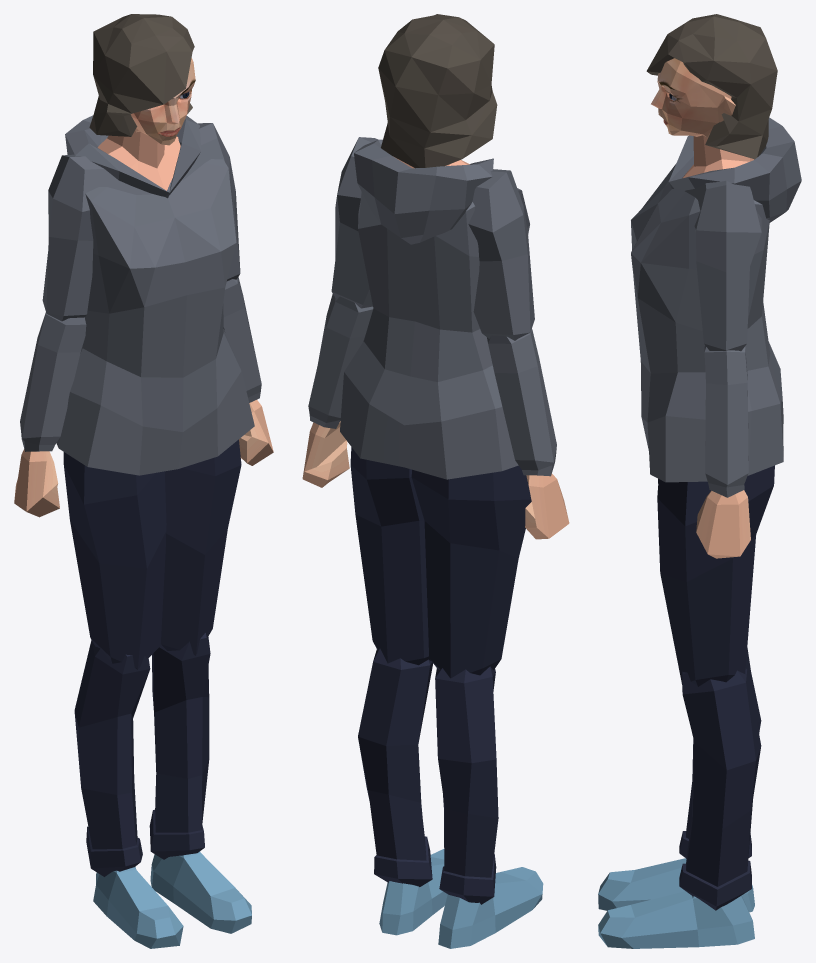
Rendered from hoodieTestDummy.fbx.
3 views of the same model, side by side, from view 1: azimuth 30°, elevation 25°; view 2: azimuth 150°, elevation 25°; view 3: azimuth 270°, elevation 25° (orthographic). The views are drawn at different scales.
Parts seen in each view (by area): view 1: Cube.048, Cube.061, Cube.062, Cube.052, Cube.053, Cube.055, Cube.063, Cube.059, Cube.054, Cube.058, Cube.050, Cube.060 (+3 smaller); view 2: Cube.048, Cube.061, Cube.055, Cube.053, Cube.062, Cube.052, Cube.063, Cube.059, Cube.058, Cube.050, Cube.049, Cube.054 (+2 smaller); view 3: Cube.048, Cube.052, Cube.053, Cube.055, Cube.049, Cube.054, Cube.050, Cube.057, Cube.058, Cube.051, Cube.062.
Boxes of the visible parts, bbox=[...] form: Cube.048: bbox=[56, 115, 254, 475]; Cube.061: bbox=[63, 452, 166, 669]; Cube.062: bbox=[74, 640, 150, 876]; Cube.052: bbox=[161, 439, 241, 655]; Cube.053: bbox=[149, 633, 210, 859]; Cube.055: bbox=[89, 14, 194, 136]; Cube.063: bbox=[42, 154, 150, 321]; Cube.059: bbox=[20, 312, 86, 451]; Cube.054: bbox=[150, 851, 251, 933]; Cube.058: bbox=[93, 867, 183, 948]; Cube.050: bbox=[223, 277, 261, 402]; Cube.060: bbox=[14, 449, 59, 517]; Cube.048: bbox=[340, 139, 529, 479]; Cube.061: bbox=[411, 465, 531, 678]; Cube.055: bbox=[378, 14, 497, 168]; Cube.053: bbox=[358, 648, 432, 886]; Cube.062: bbox=[435, 666, 498, 904]; Cube.052: bbox=[350, 447, 430, 665]; Cube.063: bbox=[468, 169, 534, 340]; Cube.059: bbox=[487, 329, 556, 476]; Cube.058: bbox=[438, 867, 543, 948]; Cube.050: bbox=[308, 294, 373, 428]; Cube.049: bbox=[331, 137, 378, 308]; Cube.054: bbox=[379, 849, 447, 935]; Cube.048: bbox=[631, 117, 801, 482]; Cube.052: bbox=[657, 465, 774, 686]; Cube.053: bbox=[679, 668, 761, 910]; Cube.055: bbox=[646, 14, 777, 159]; Cube.049: bbox=[685, 180, 761, 351]; Cube.054: bbox=[598, 891, 754, 948]; Cube.050: bbox=[704, 345, 748, 497]; Cube.057: bbox=[651, 58, 735, 137]; Cube.058: bbox=[598, 858, 754, 912]; Cube.051: bbox=[696, 490, 750, 558]; Cube.062: bbox=[679, 648, 761, 858].
Bounding box in the file's own units: 47.24 × 161 × 32.92.
